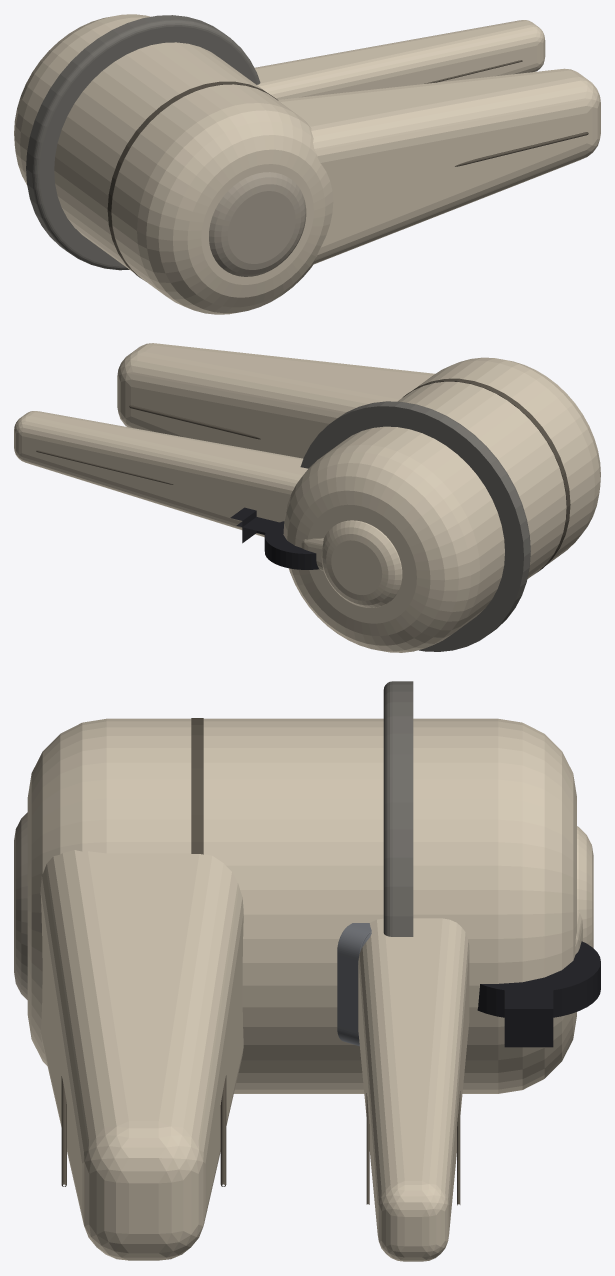
The model's file is arm.glb.
3 renders of one model, top to bottom at view 1: azimuth 30°, elevation 25°; view 2: azimuth 150°, elevation 25°; view 3: azimuth 270°, elevation 25°, orthographic. The views are drawn at different scales.
Parts seen in each view (by area): view 1: b3, b4, b1; view 2: b3, b4, b1, b5; view 3: b3, b4, b5, b1, b7.
Boxes of the visible parts, <box> form: b3: <box>14,14,600,314</box>; b4: <box>254,20,545,99</box>; b1: <box>26,15,260,270</box>; b3: <box>117,343,600,652</box>; b4: <box>14,411,307,537</box>; b1: <box>300,401,530,651</box>; b5: <box>230,507,402,607</box>; b3: <box>14,718,576,1260</box>; b4: <box>358,918,469,1261</box>; b5: <box>477,826,600,1047</box>; b1: <box>383,681,413,936</box>; b7: <box>337,923,371,1046</box>.
Bounding box in the file's own units: 0.3277 × 0.1484 × 0.1934.
